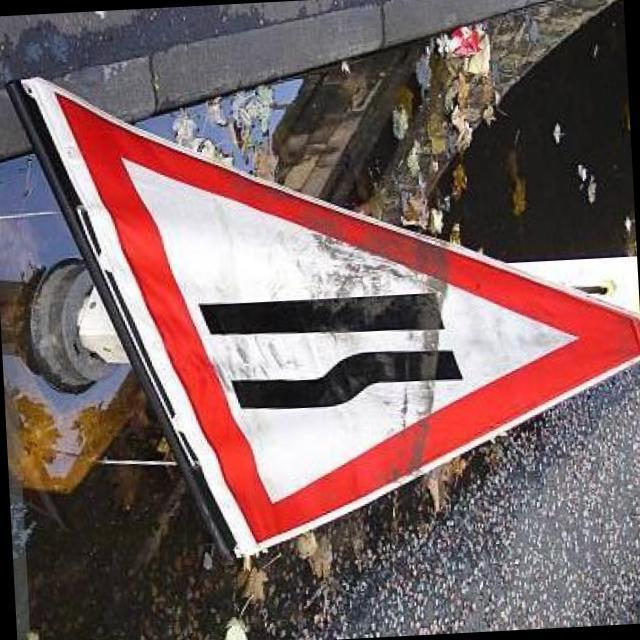obstructed_road_sign: (19, 79, 640, 556)
